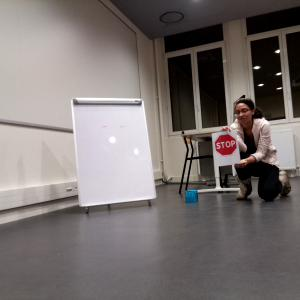stop: (215, 134, 237, 156)
